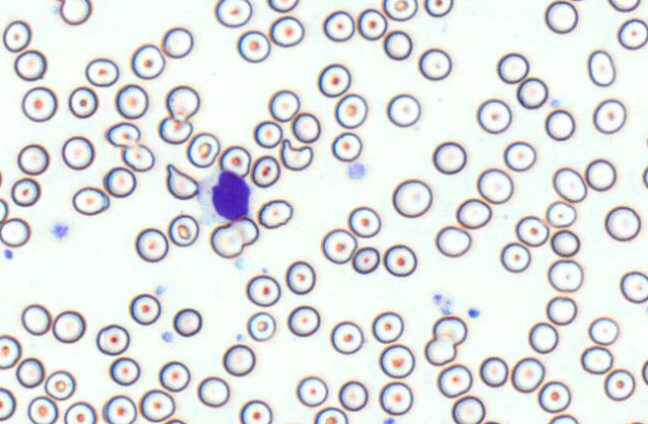MONO: (194, 166, 254, 227)
PLT: (345, 161, 367, 181), (50, 222, 70, 240), (160, 330, 176, 344), (2, 248, 15, 263), (468, 306, 482, 319), (432, 289, 443, 302), (383, 417, 397, 424)
RBC: (391, 178, 432, 218), (476, 167, 513, 204), (604, 205, 641, 241), (320, 228, 357, 264), (21, 85, 57, 122), (476, 98, 512, 134), (510, 356, 545, 393), (165, 85, 200, 122), (552, 166, 587, 203), (378, 343, 415, 378), (130, 43, 165, 79), (436, 363, 472, 398), (334, 92, 368, 129), (209, 223, 244, 258), (134, 227, 169, 262), (378, 380, 413, 415), (186, 132, 220, 168), (139, 388, 175, 422), (547, 258, 583, 292), (114, 83, 148, 119), (385, 93, 421, 127), (592, 98, 626, 134), (329, 320, 364, 354), (236, 29, 271, 63), (434, 225, 471, 257), (268, 15, 305, 47), (317, 63, 351, 97), (432, 140, 466, 174), (544, 0, 578, 34), (61, 135, 94, 170), (417, 47, 452, 80), (455, 197, 491, 229), (52, 309, 85, 343), (537, 380, 571, 413), (347, 205, 381, 238), (383, 243, 417, 276), (245, 274, 280, 306), (95, 323, 130, 355), (257, 198, 293, 229), (72, 186, 109, 216), (587, 49, 616, 87), (287, 304, 320, 337), (222, 343, 255, 376), (322, 9, 355, 42), (167, 213, 199, 247), (13, 49, 47, 81), (515, 215, 549, 247), (432, 315, 467, 346), (103, 166, 136, 198), (295, 375, 328, 407), (268, 89, 300, 122), (496, 52, 529, 84), (516, 76, 548, 109), (584, 158, 616, 191), (603, 368, 635, 401), (371, 310, 403, 343), (160, 26, 193, 58), (196, 376, 230, 407), (84, 57, 119, 87), (214, 0, 252, 27), (158, 360, 190, 392), (129, 293, 161, 325), (17, 143, 49, 175), (544, 108, 575, 141), (503, 140, 536, 171), (356, 7, 387, 40), (285, 260, 315, 294), (102, 394, 137, 423), (330, 131, 362, 162), (20, 303, 51, 335), (44, 369, 76, 400), (337, 379, 368, 411), (68, 85, 98, 118), (121, 143, 155, 172), (251, 154, 280, 188), (500, 241, 531, 272), (424, 336, 456, 366), (108, 356, 140, 386), (528, 321, 558, 353), (291, 111, 321, 143), (545, 295, 577, 325), (617, 18, 647, 50), (2, 19, 31, 52), (580, 345, 613, 374), (451, 395, 485, 423), (0, 217, 31, 247), (382, 29, 412, 60), (15, 356, 44, 388), (619, 270, 647, 303), (172, 307, 202, 337), (246, 311, 276, 341), (479, 356, 508, 387), (588, 316, 619, 345), (230, 216, 259, 246), (10, 177, 40, 206), (27, 395, 58, 423), (545, 200, 576, 228), (253, 120, 283, 148), (550, 229, 580, 257), (59, 0, 92, 25), (351, 246, 380, 274), (239, 399, 272, 423), (0, 333, 21, 369), (63, 401, 97, 423), (382, 0, 417, 21), (313, 406, 348, 423), (0, 386, 16, 421), (423, 0, 453, 17), (266, 0, 299, 13), (607, 0, 640, 12), (547, 413, 578, 423), (0, 197, 8, 223), (641, 358, 648, 385), (642, 164, 647, 189), (481, 419, 505, 424), (162, 418, 186, 423), (624, 420, 646, 424), (0, 167, 3, 189), (645, 134, 648, 149)
Schistocyte: (165, 162, 200, 200), (279, 139, 317, 172), (220, 145, 251, 178), (159, 117, 193, 145), (105, 123, 139, 147)
